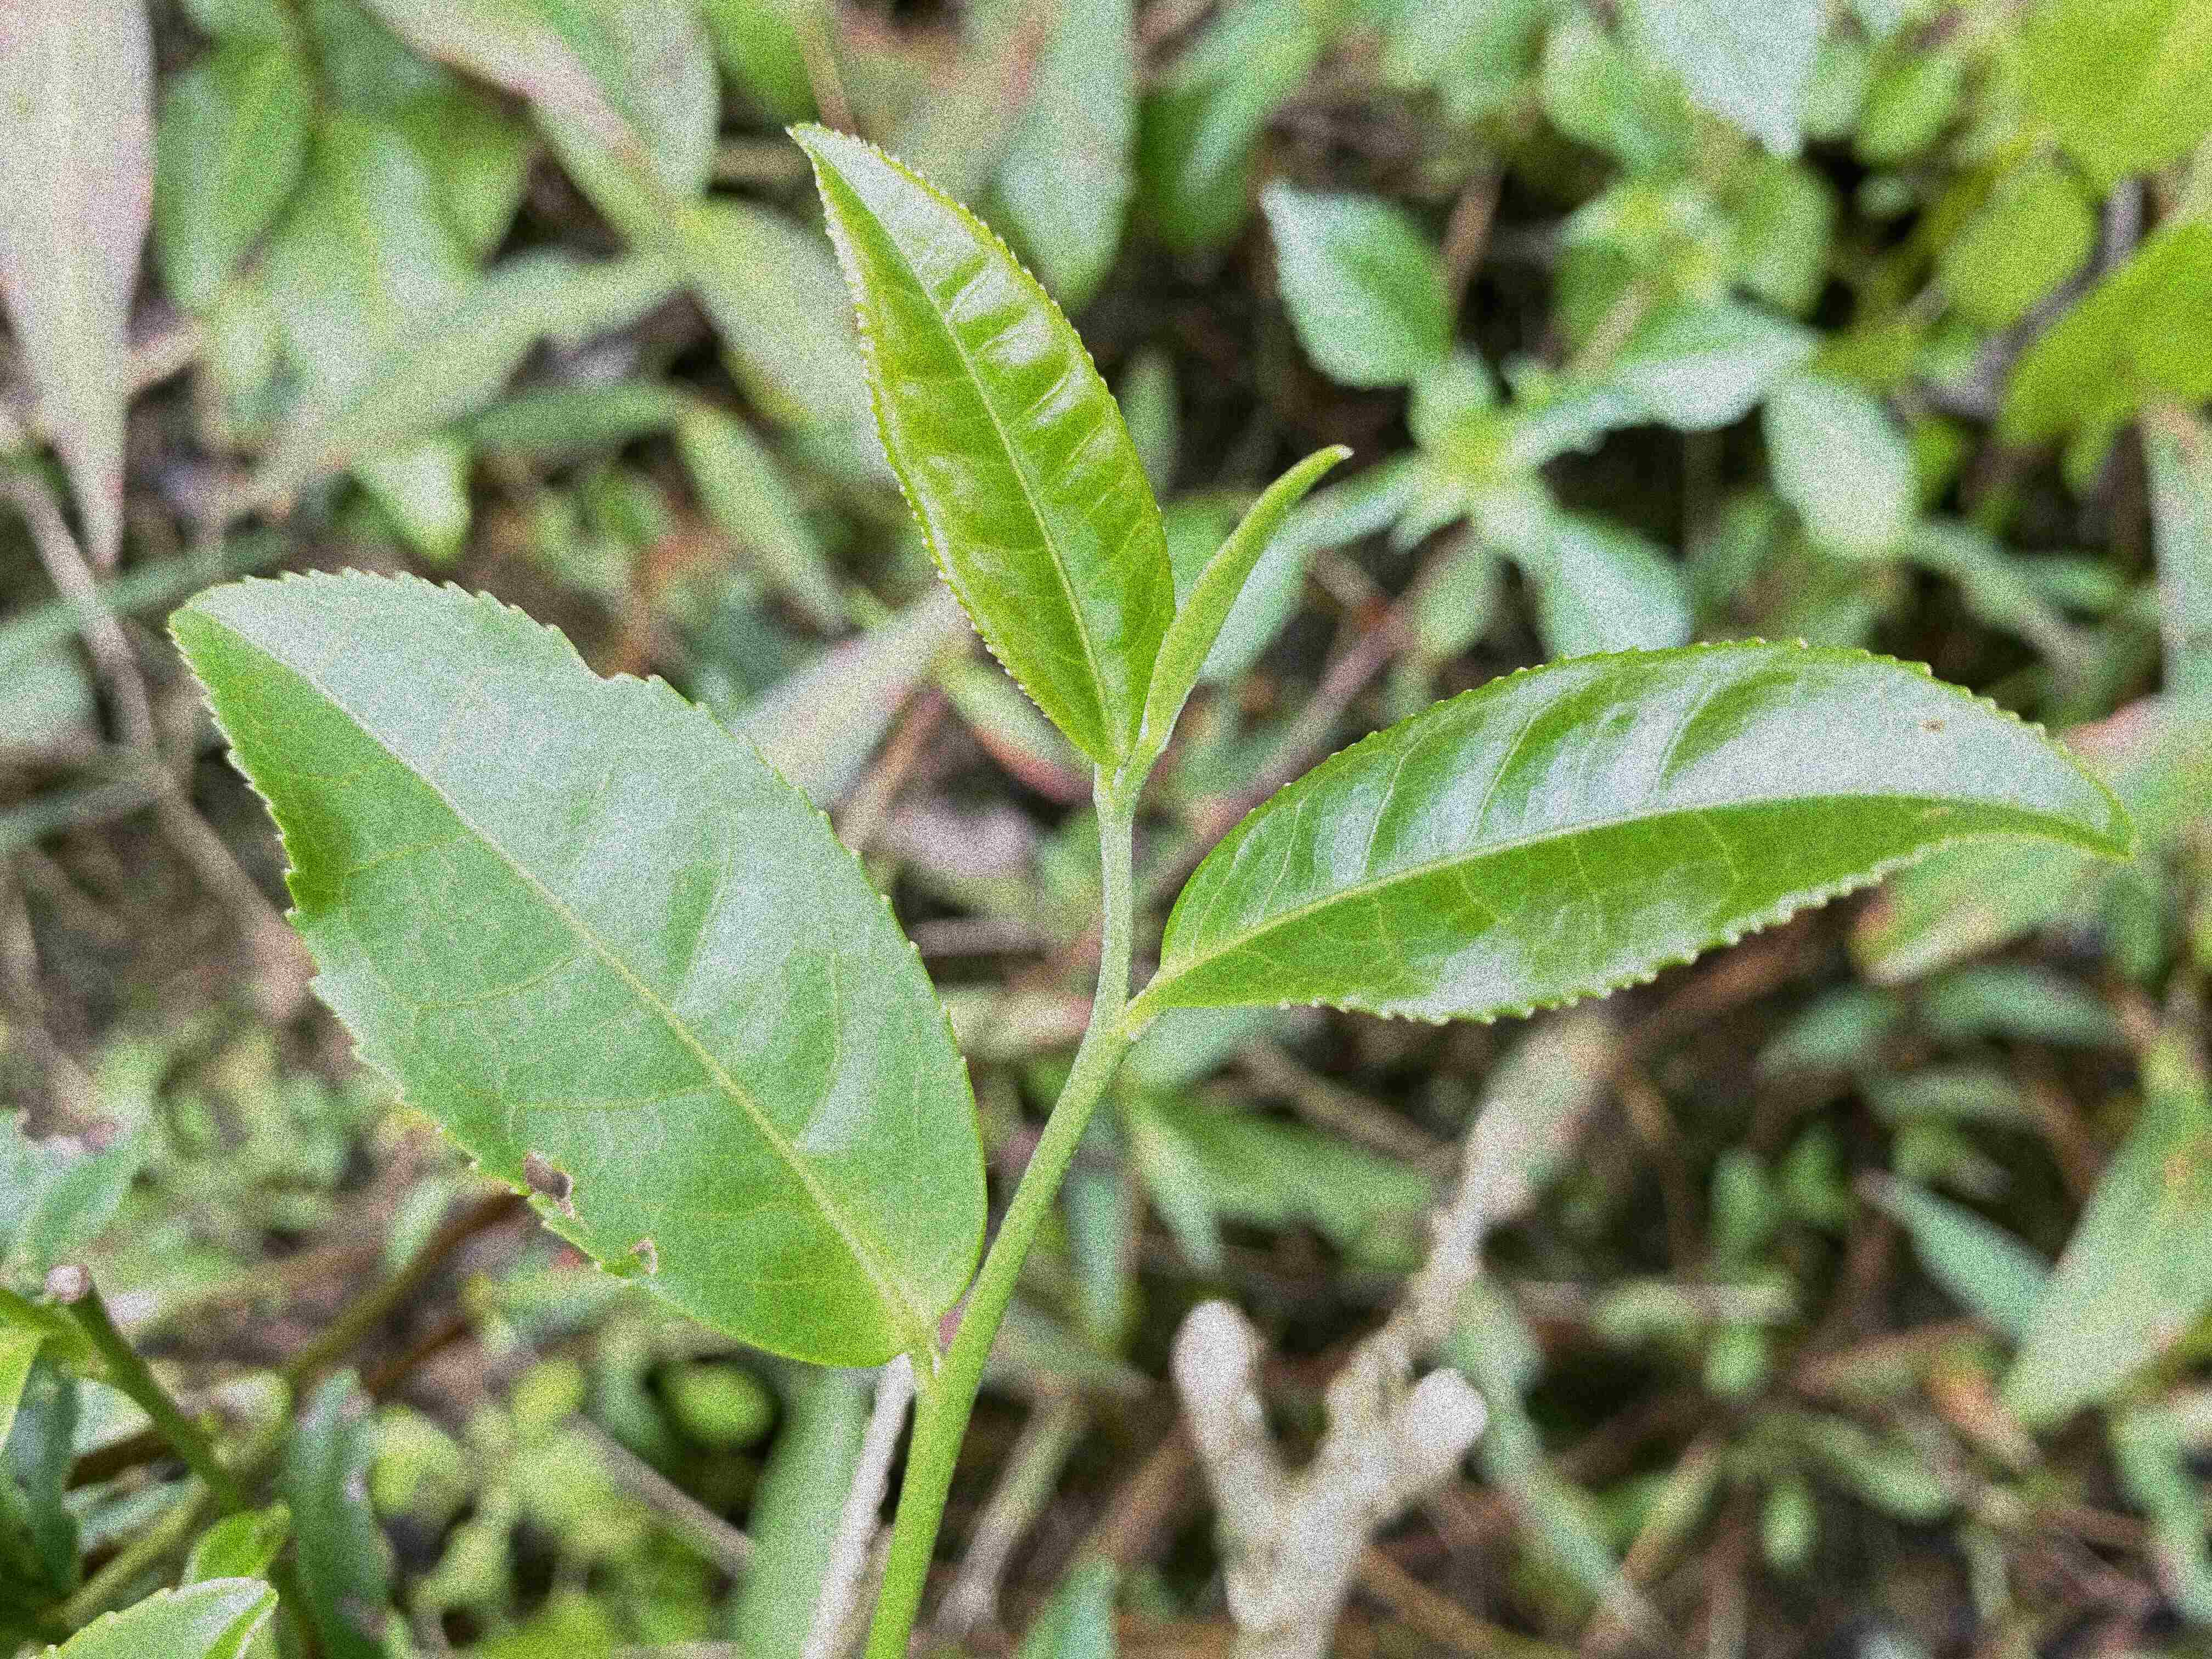chihuo_high: (164, 568, 989, 1370)
healthy: (1158, 631, 2137, 1028), (782, 120, 1176, 775)
